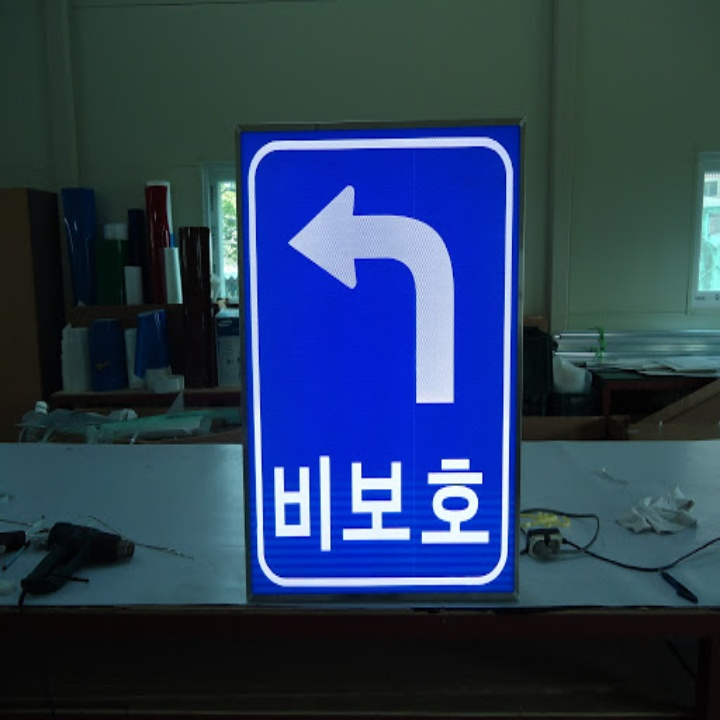left: (276, 178, 476, 422)
